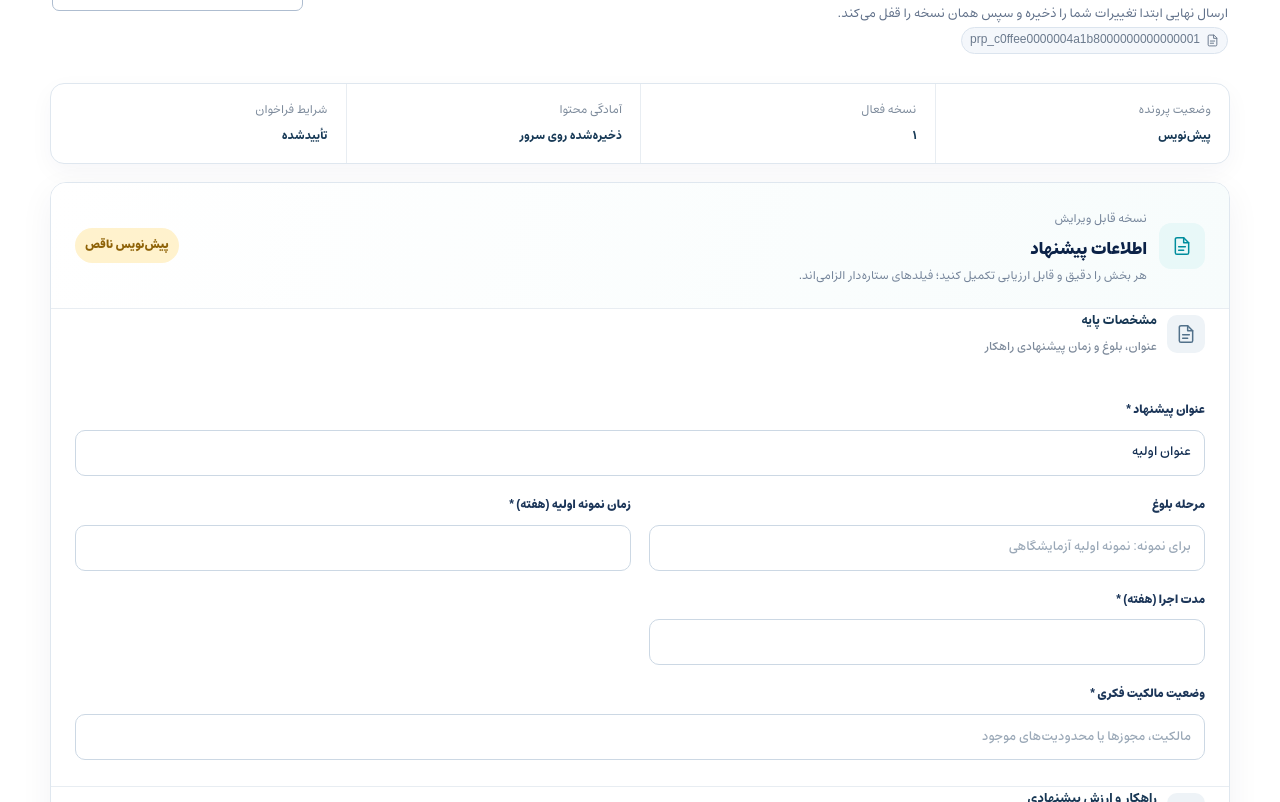
Test: connected proposal editing reliability › preserves edits on conflicts and shows server field-level validation feedback
Replace the text in the field labelled "عنوان پیشنهاد *" with "متن دارای تعارض" at (640, 453), box [75,430,1205,476]
(page scrolled)
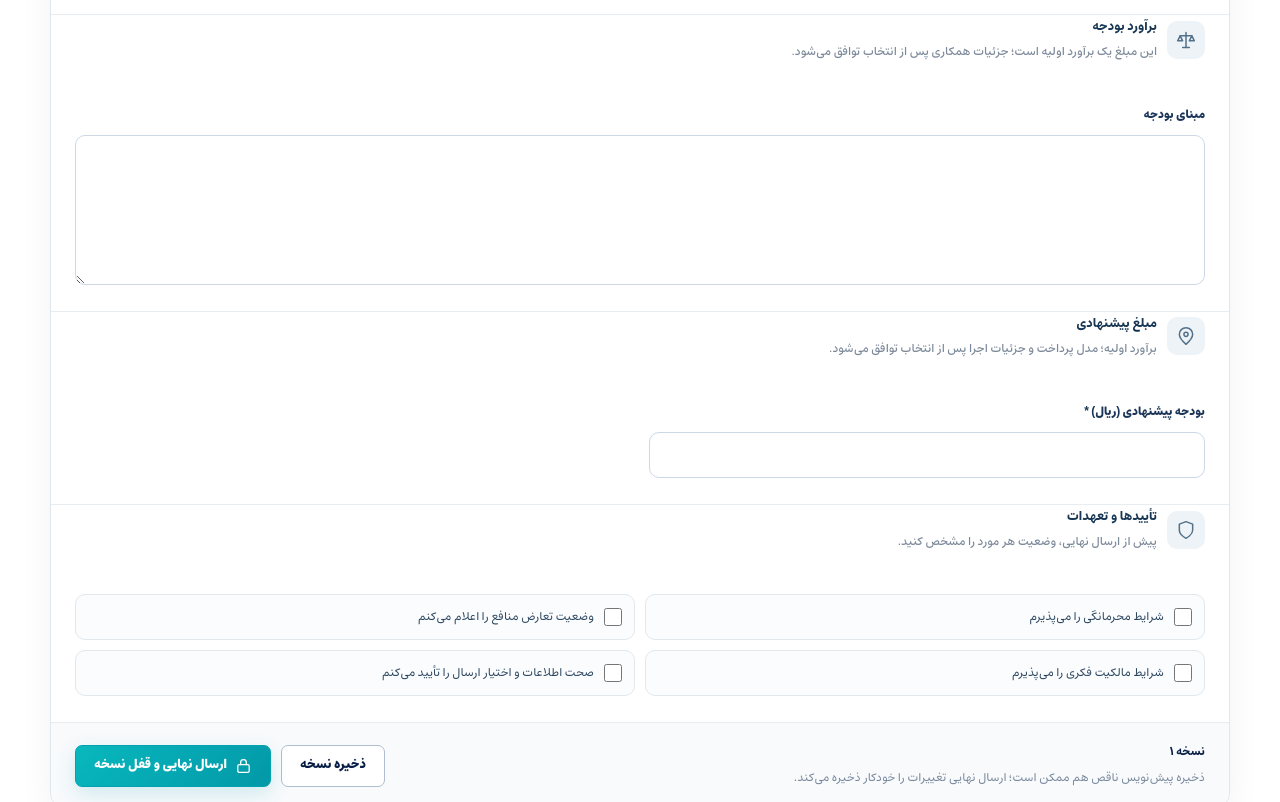
Click the button "ارسال نهایی و قفل نسخه" at (173, 766), box [75,745,271,787]
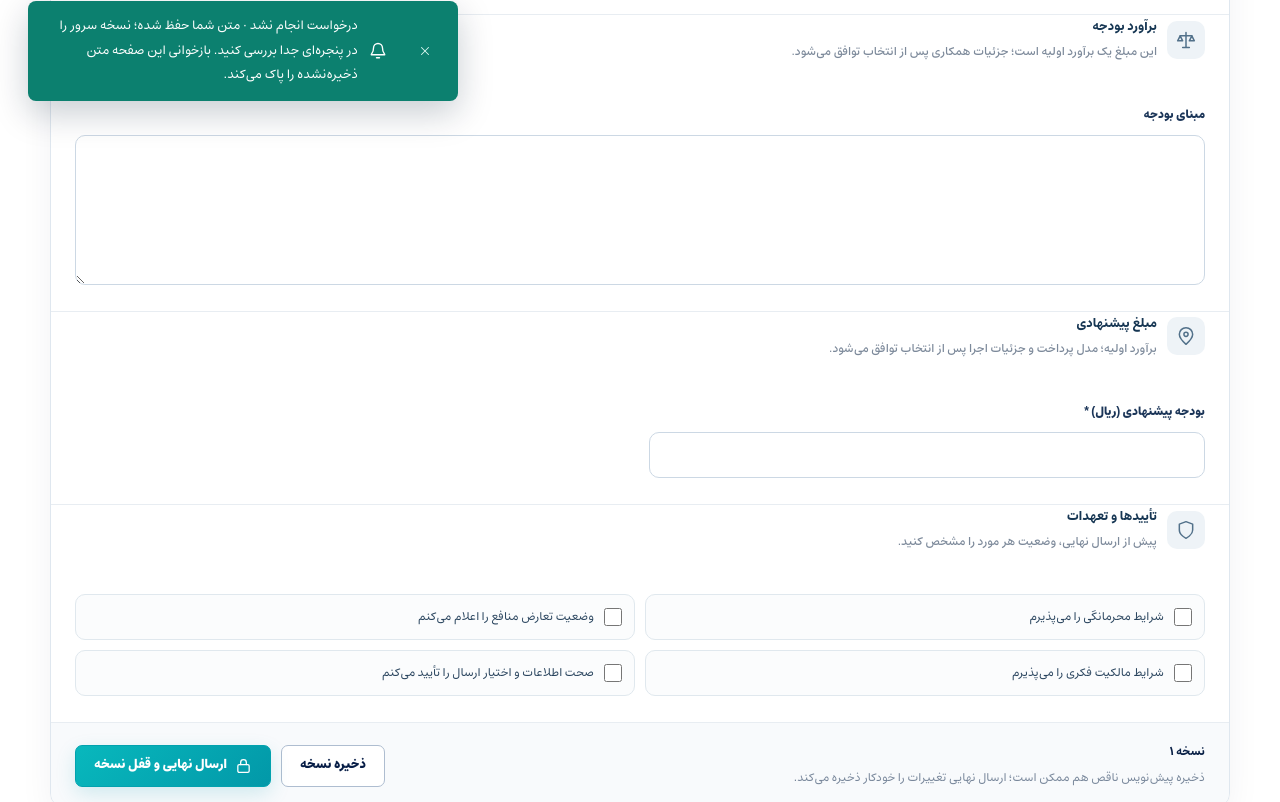
Now the message shows "نسخه سرور را در پنجره‌ای جدا بررسی کنید", box [59,16,358,85]
Click the button "ارسال نهایی و قفل نسخه" at (173, 766), box [75,745,271,787]
(page scrolled)
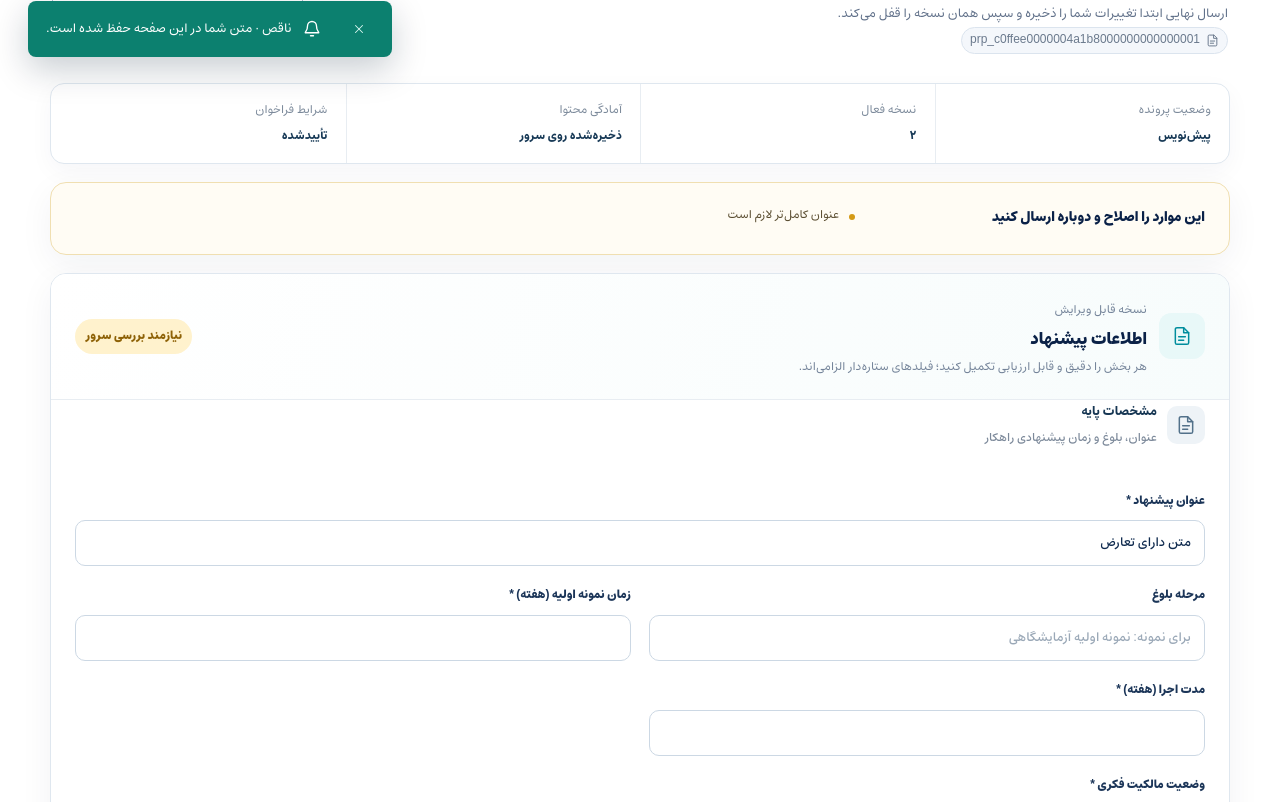
Now the message named "موارد نیازمند اصلاح" shows "عنوان کامل‌تر لازم است", box [727,206,839,224]
